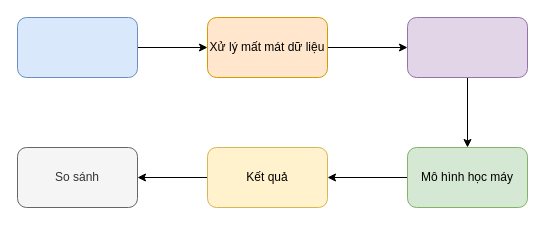
The diagram is 545 pixels wide and 225 high, and some of its shapes have lost their labels. Each missing label, with the centre of its shape:
"Trích xuất dữ liệu" belongs at pixel 77 47.
"Tính chỉ số AQI" belongs at pixel 467 47.
